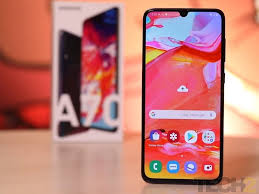samsung: (140, 6, 227, 186)
